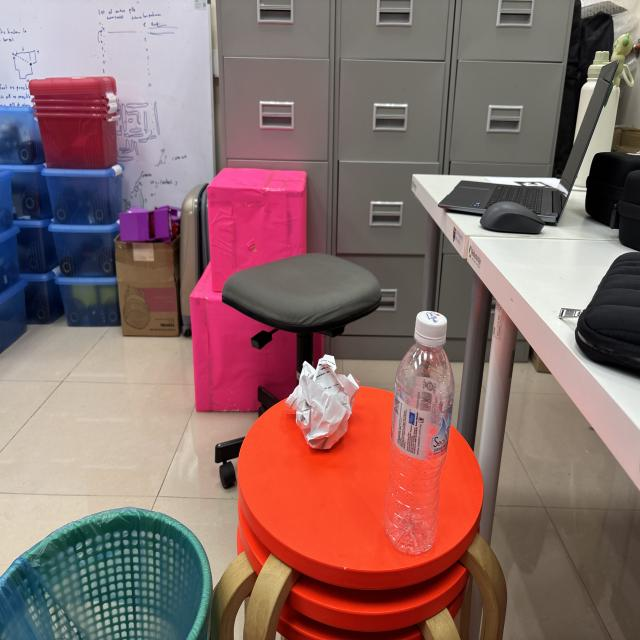crumpled_paper: (280, 338, 365, 464)
plastic_bottle: (378, 307, 462, 561)
